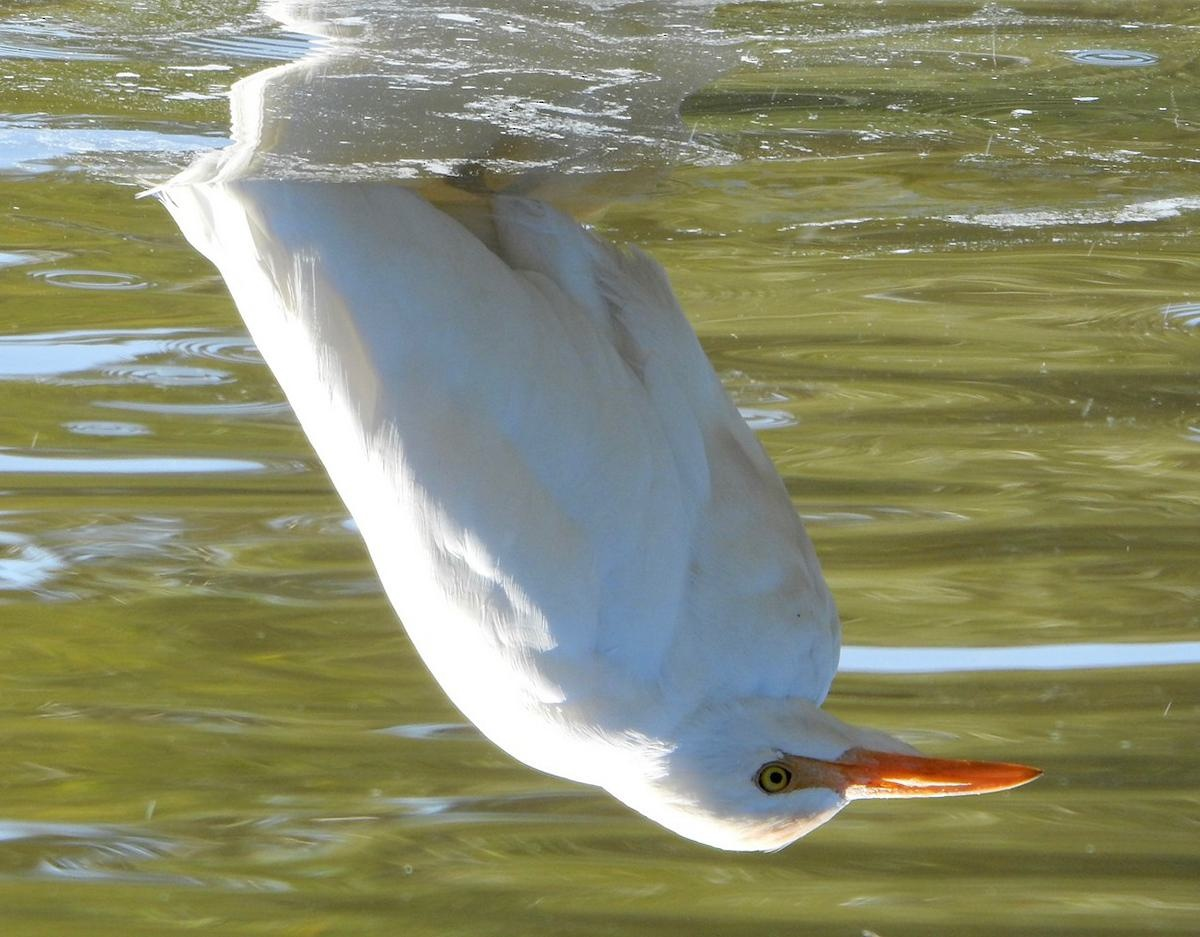egret: (179, 137, 1057, 856)
